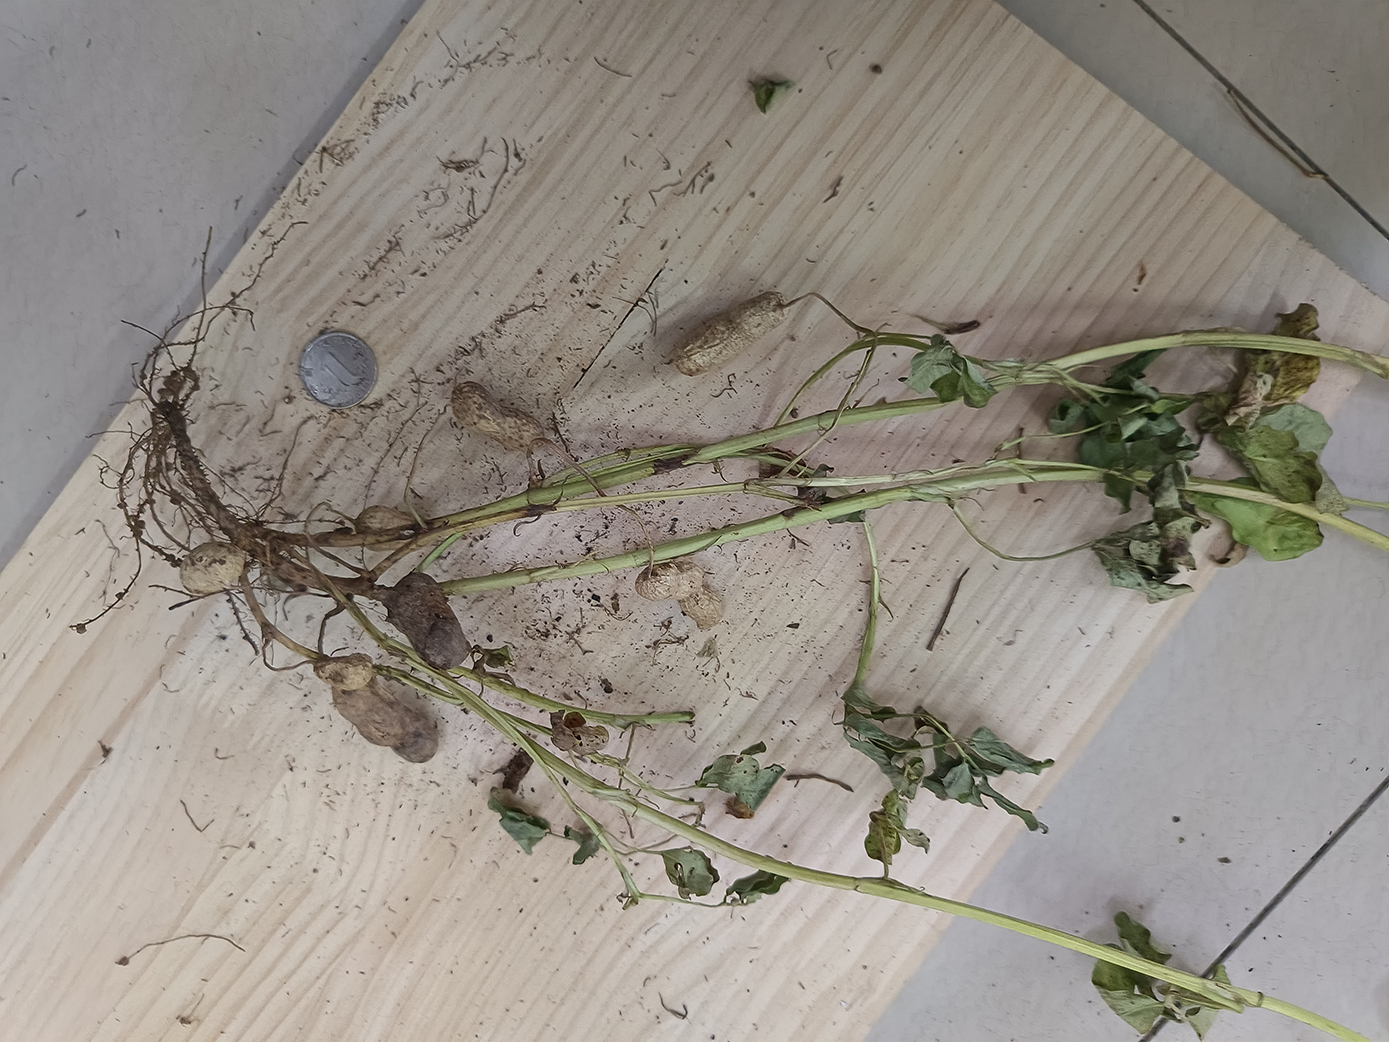h: (673, 290, 790, 377), (448, 381, 544, 455), (636, 559, 724, 630), (180, 542, 244, 597), (356, 508, 432, 549), (314, 652, 373, 691)
l: (335, 685, 439, 763), (387, 574, 470, 670)
